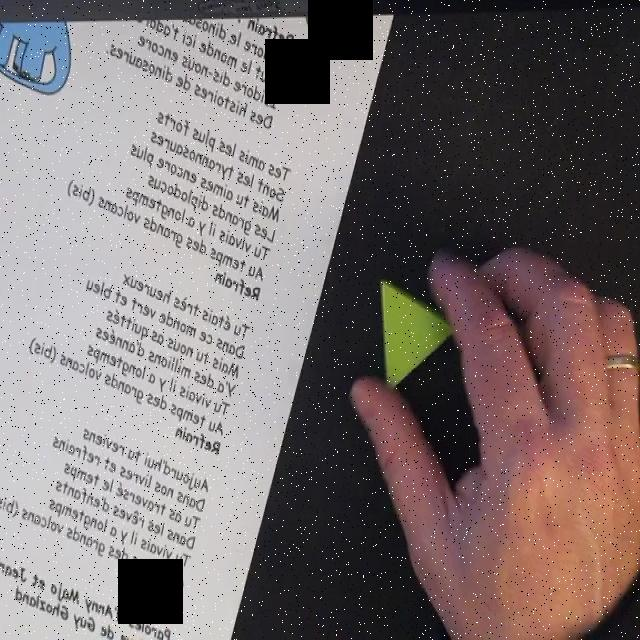triangle: (378, 278, 459, 393)
